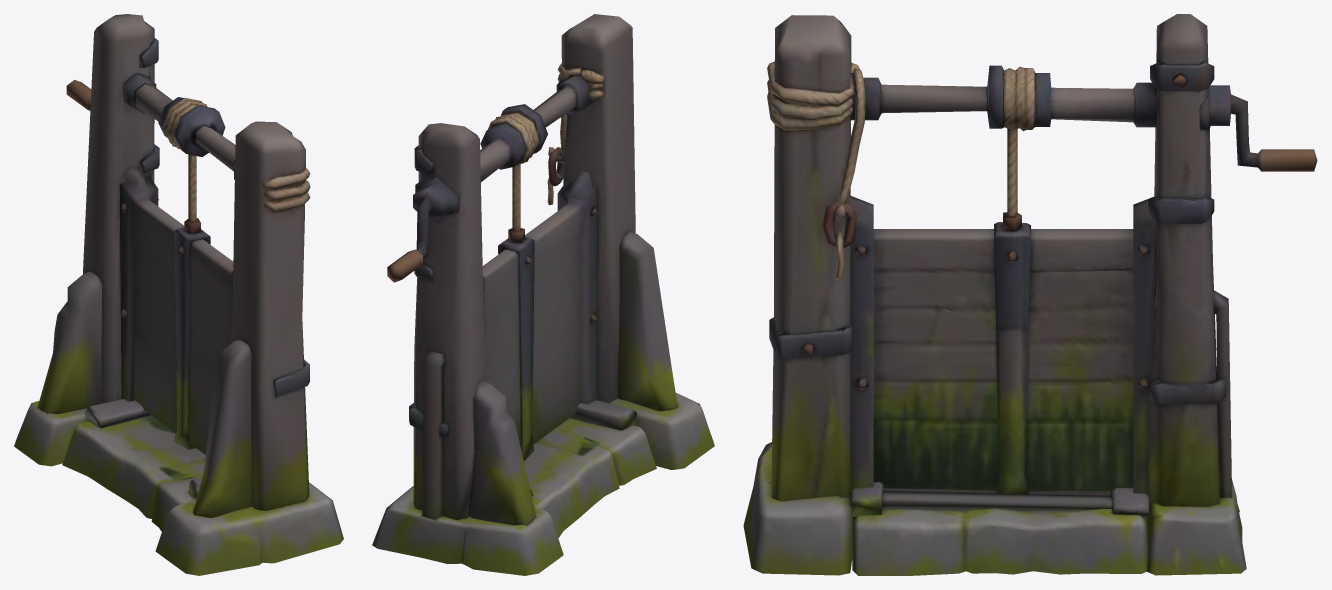
File: ninebend_sluice_gate.glb
The picture shows the model from 3 angles, left to right: view 1: azimuth 30°, elevation 25°; view 2: azimuth 150°, elevation 25°; view 3: azimuth 270°, elevation 25°; orthographic projection. The views are drawn at different scales.
Visible parts, largest first — view 1: tripo_node_d6427dcb-6af1-4392-848f-039706cdcad8; view 2: tripo_node_d6427dcb-6af1-4392-848f-039706cdcad8; view 3: tripo_node_d6427dcb-6af1-4392-848f-039706cdcad8.
Part boxes in pixels (left/top/right/bottom): tripo_node_d6427dcb-6af1-4392-848f-039706cdcad8: left=14, top=14, right=343, bottom=575; tripo_node_d6427dcb-6af1-4392-848f-039706cdcad8: left=372, top=14, right=714, bottom=575; tripo_node_d6427dcb-6af1-4392-848f-039706cdcad8: left=743, top=14, right=1317, bottom=575.
Size of the model in its own units: 1.28 by 3.2 by 3.2.
Materials: 1 (1 with a texture image).
